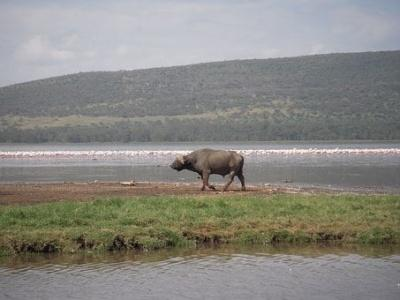buffalo: (170, 149, 245, 190)
